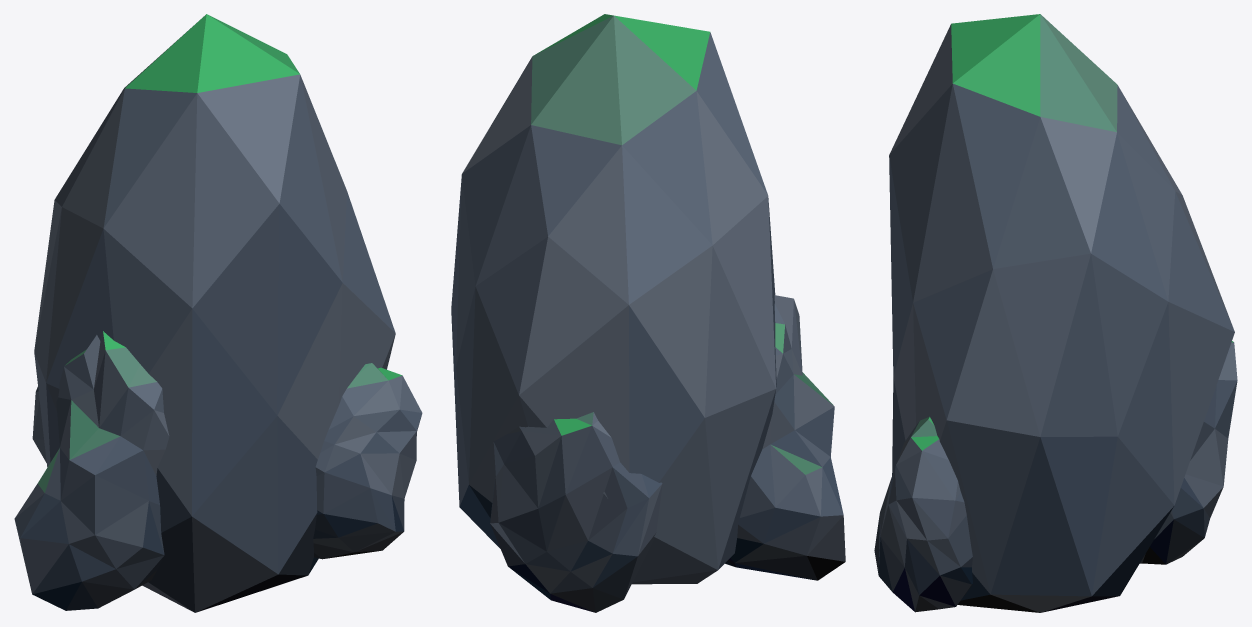
Rendered from batu_boulder_granite_387246.glb.
3 views of the same model, side by side, from view 1: azimuth 30°, elevation 25°; view 2: azimuth 150°, elevation 25°; view 3: azimuth 270°, elevation 25° (orthographic). The views are drawn at different scales.
Visible parts, largest first — view 1: Batu_Jeram_Sungai; view 2: Batu_Jeram_Sungai; view 3: Batu_Jeram_Sungai.
Part boxes in pixels (x1,y1,x2,y2): Batu_Jeram_Sungai: (14,14,422,612); Batu_Jeram_Sungai: (451,14,845,612); Batu_Jeram_Sungai: (874,14,1237,612).
Bounding box in the file's own units: 3.75 × 5.36 × 3.1.
